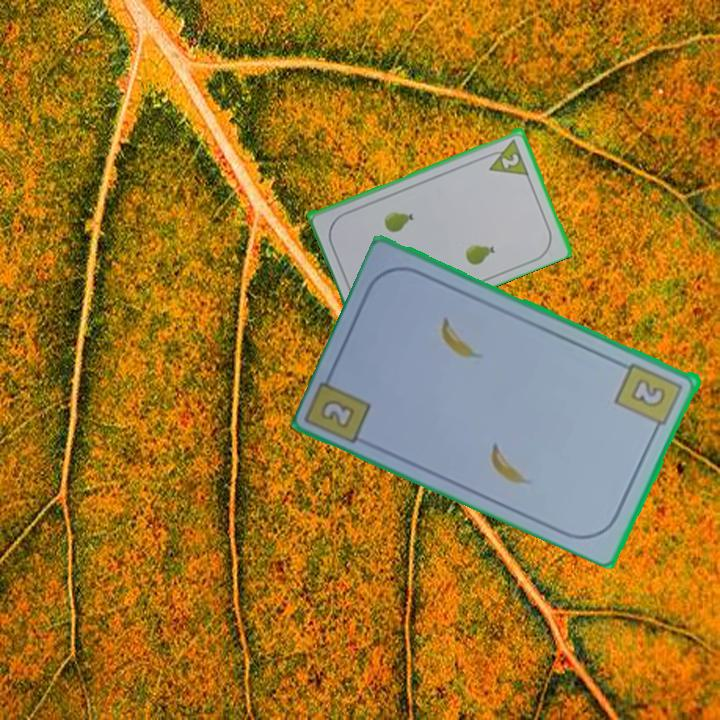2b: (612, 359, 687, 436), (320, 399, 355, 428)
2p: (481, 134, 531, 178)
